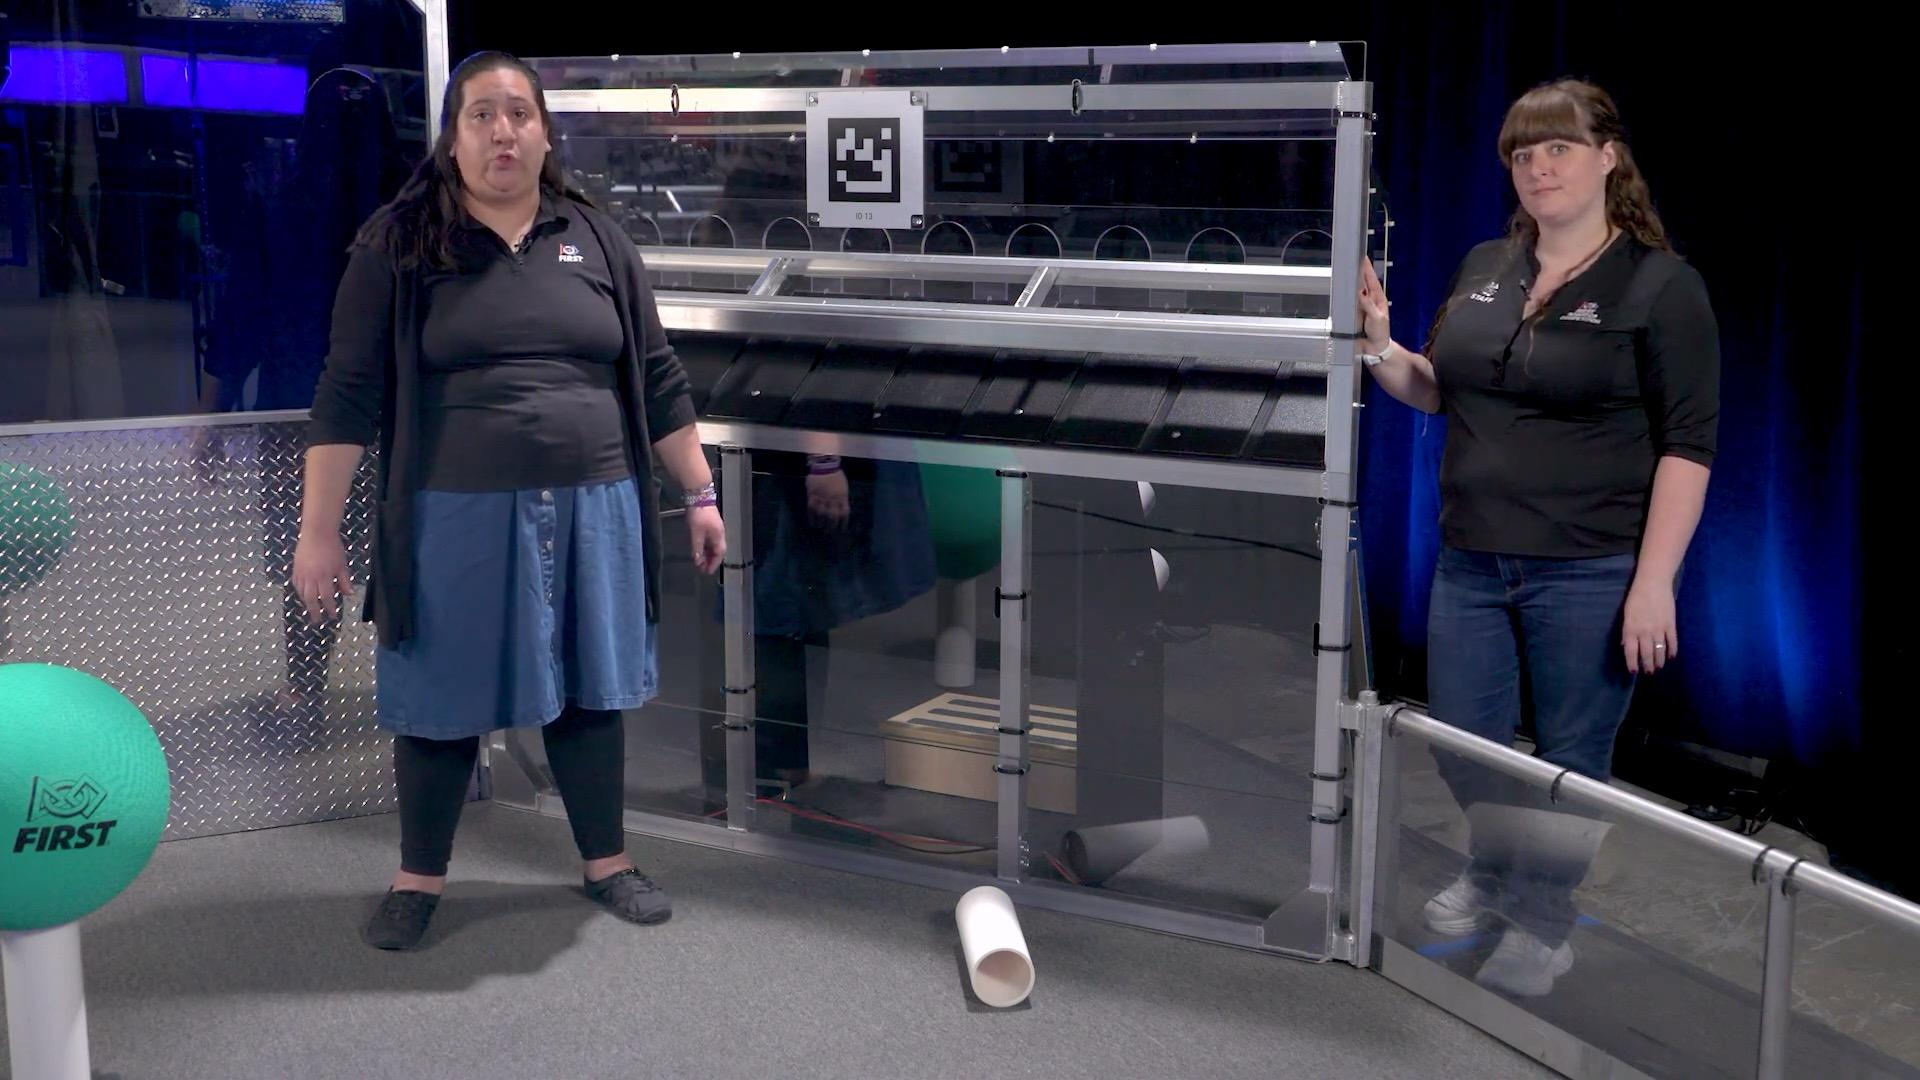ALGAE: (0, 661, 170, 931)
CORAL: (0, 919, 94, 1080), (953, 886, 1035, 1010)
